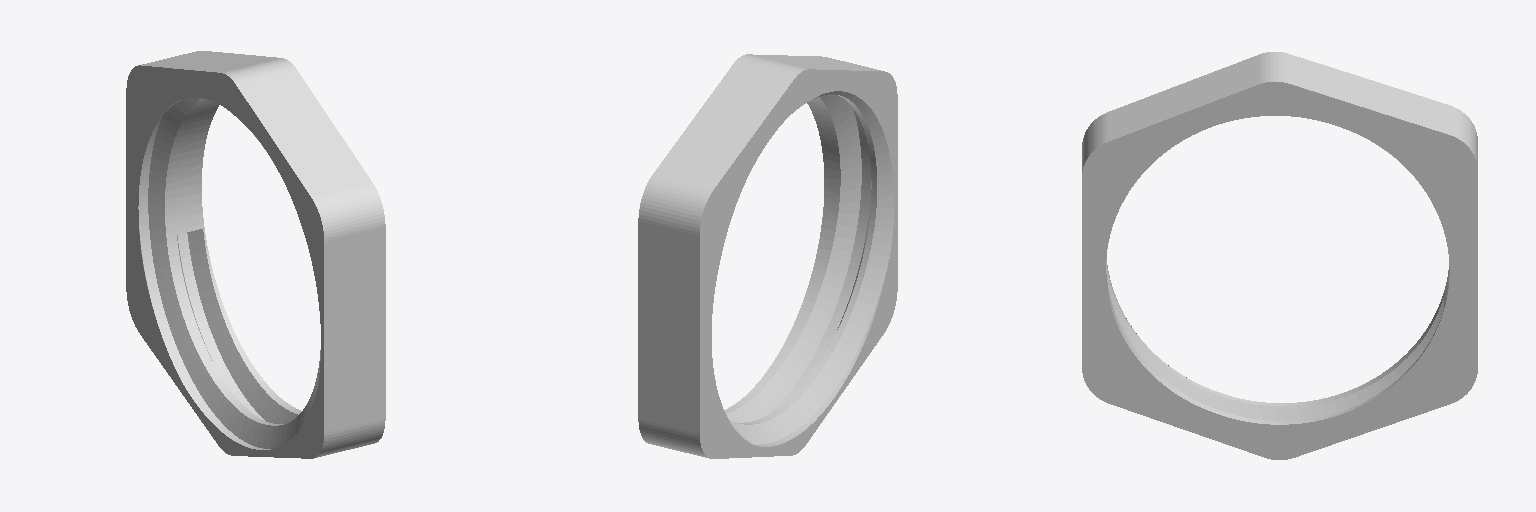
File: nut.obj
The picture shows the model from 3 angles: view 1: azimuth 30°, elevation 25°; view 2: azimuth 150°, elevation 25°; view 3: azimuth 270°, elevation 25°; orthographic projection.
Visible parts, largest first — view 1: nut; view 2: nut; view 3: nut.
Boxes of the visible parts, x1,y1,x2,y2 form: nut: [126, 51, 385, 458]; nut: [638, 54, 897, 458]; nut: [1082, 52, 1477, 459].
Bounding box in the file's own units: 5 × 29.56 × 28.